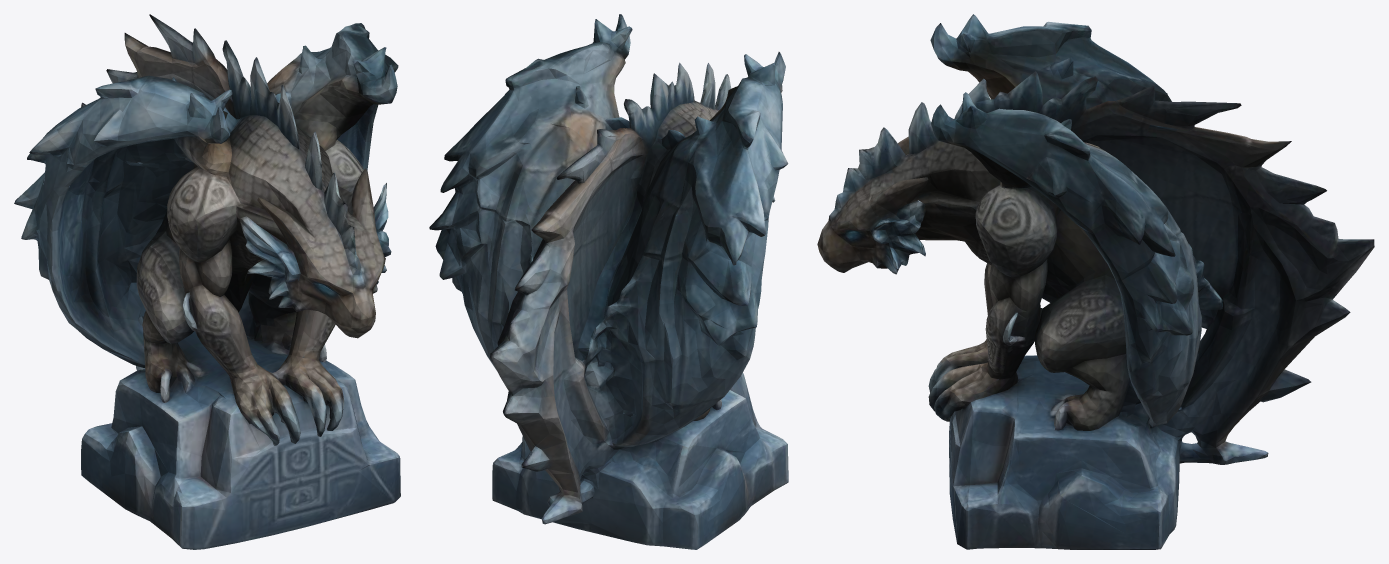
Rendered from crystalGargoyle.glb.
The picture shows the model from 3 angles, left to right: view 1: azimuth 30°, elevation 25°; view 2: azimuth 150°, elevation 25°; view 3: azimuth 270°, elevation 25°; orthographic projection. The views are drawn at different scales.
Parts seen in each view (by area): view 1: world; view 2: world; view 3: world.
Part boxes in pixels (left/top/right/bottom): world: left=14, top=14, right=400, bottom=549; world: left=429, top=14, right=788, bottom=549; world: left=817, top=14, right=1374, bottom=549.
Bounding box in the file's own units: 0.6956 × 0.8682 × 0.9992.
Materials: 1 (1 with a texture image).
